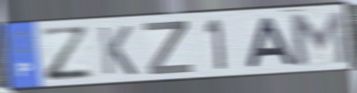1: (204, 17, 229, 72)
A: (243, 15, 300, 70)
K: (96, 25, 139, 77)
M: (286, 9, 351, 68)
Z: (38, 25, 96, 85), (142, 20, 196, 77)
